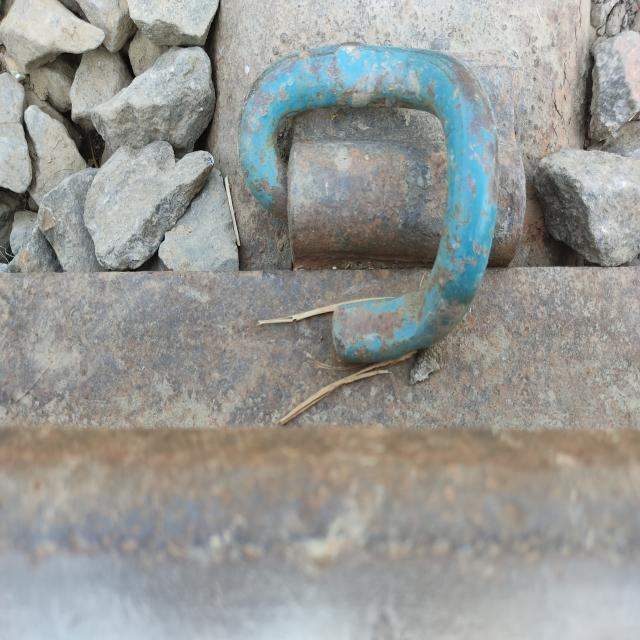Good Fasteners: (238, 44, 525, 363)
